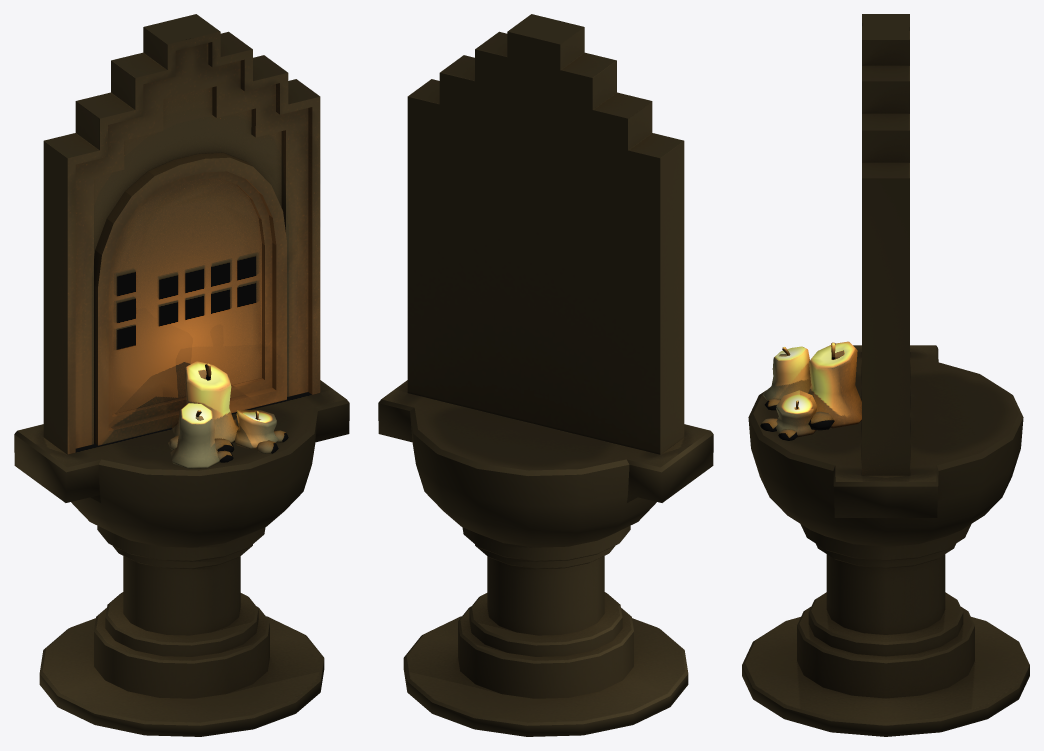
File: altarTEST.fbx
3 renders of one model, left to right at view 1: azimuth 30°, elevation 25°; view 2: azimuth 150°, elevation 25°; view 3: azimuth 270°, elevation 25°, orthographic.
Parts seen in each view (by area): view 1: Altar; view 2: Altar; view 3: Altar.
Boxes of the visible parts, x1,y1,x2,y2 form: Altar: [14, 14, 349, 736]; Altar: [378, 14, 713, 736]; Altar: [742, 14, 1029, 736].
Size of the model in its own units: 167 by 365 by 147.
Materials: 1 (1 with a texture image).
